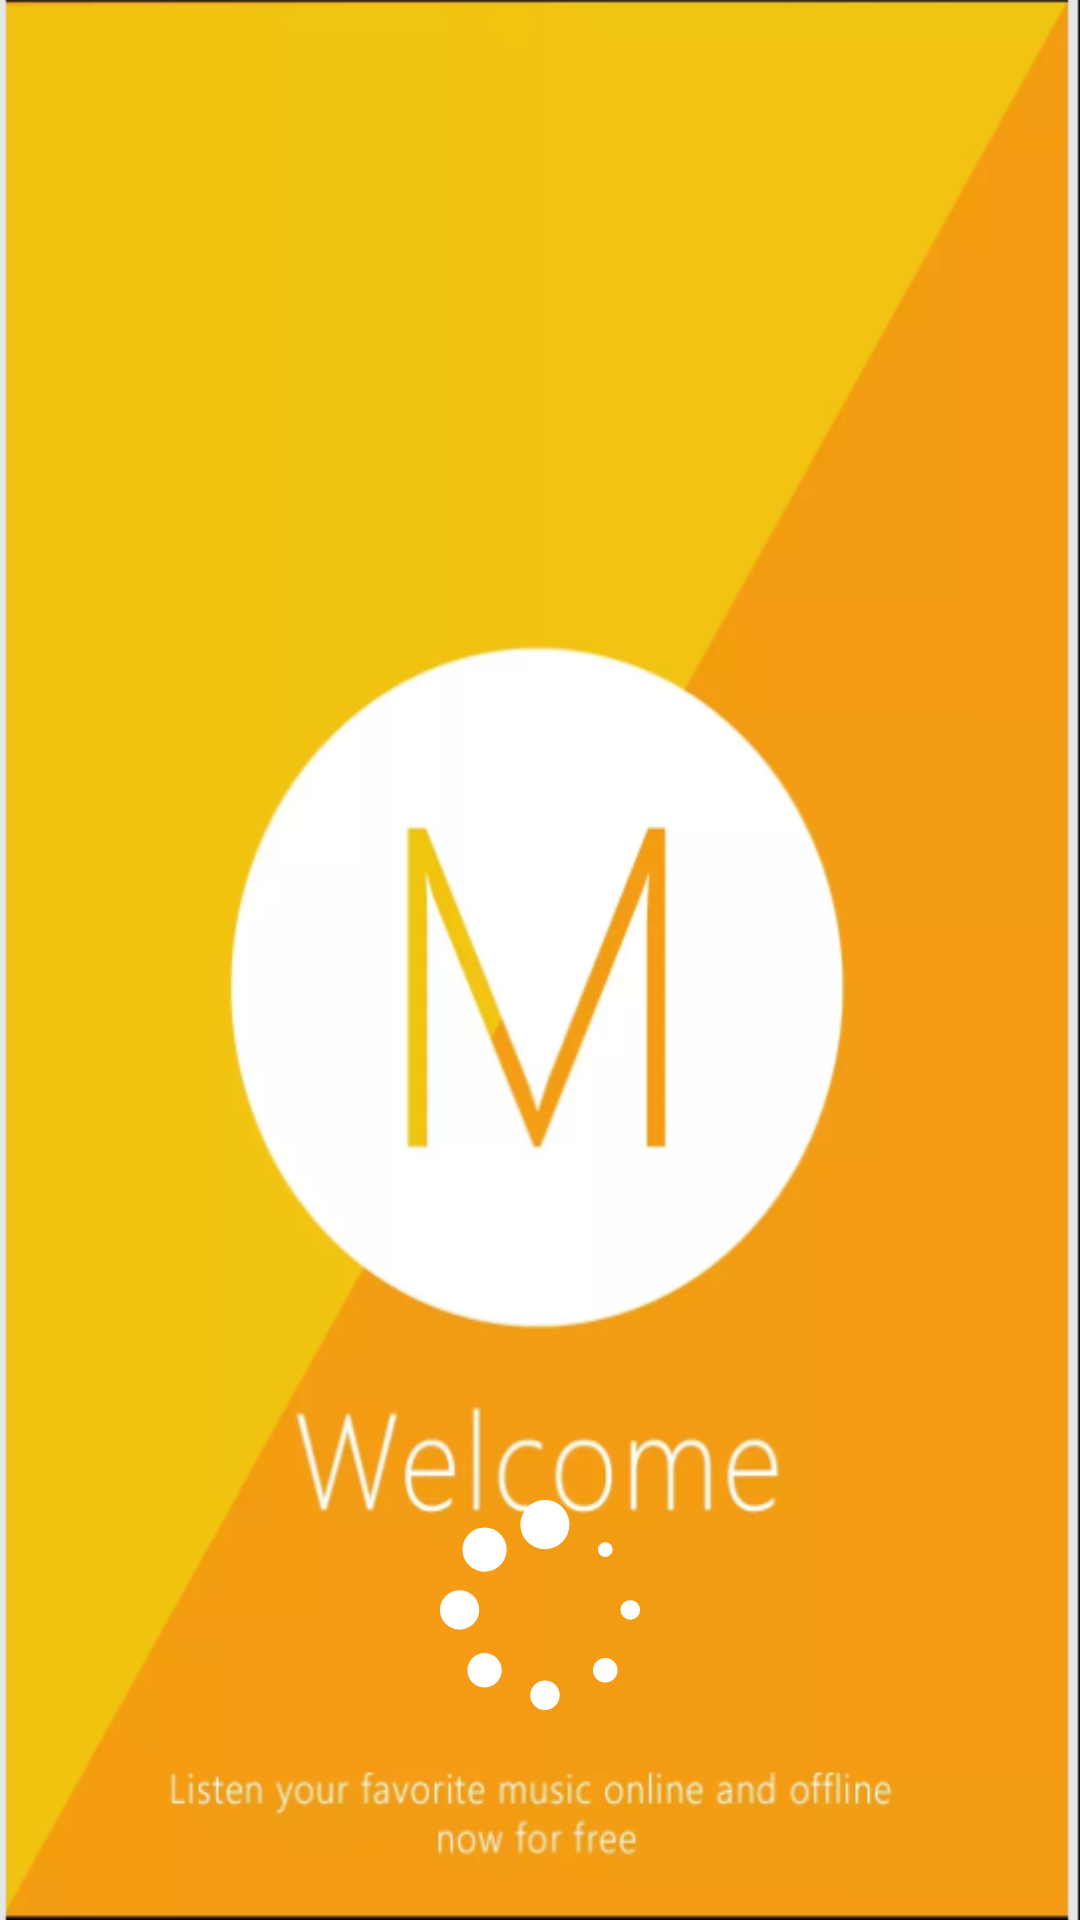

Icon click points for this 1080px x 1920px phone screenshot, format [x,y]:
loading: [540,1618]
